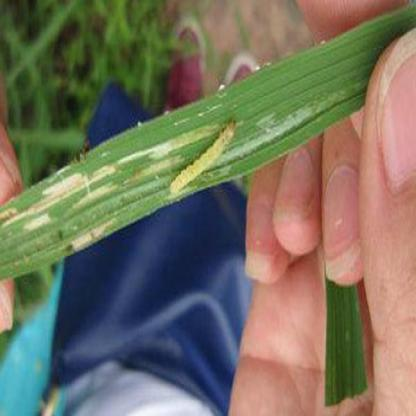leaf-folder: (166, 112, 236, 203)
